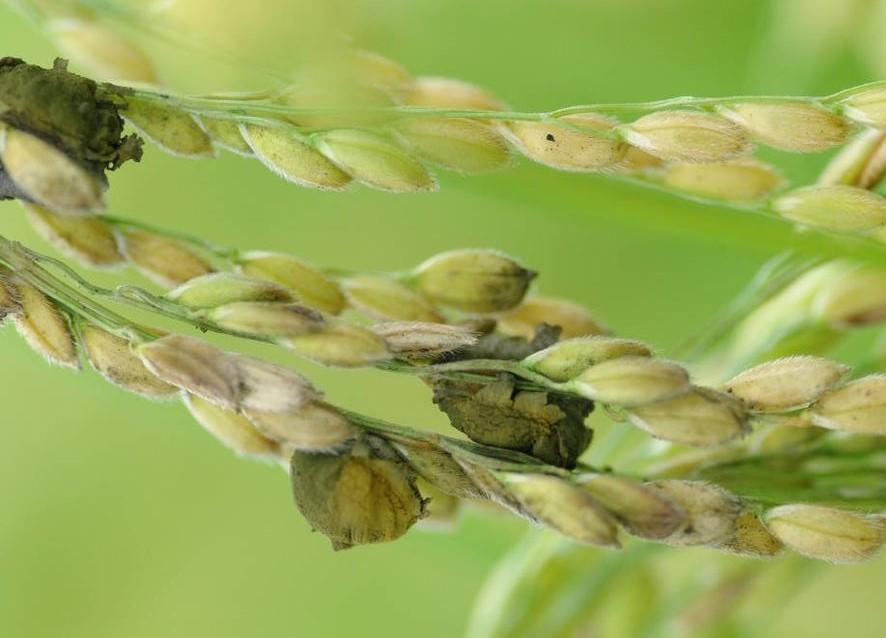False Smut: (418, 317, 608, 477), (277, 412, 445, 553), (0, 57, 162, 197)
